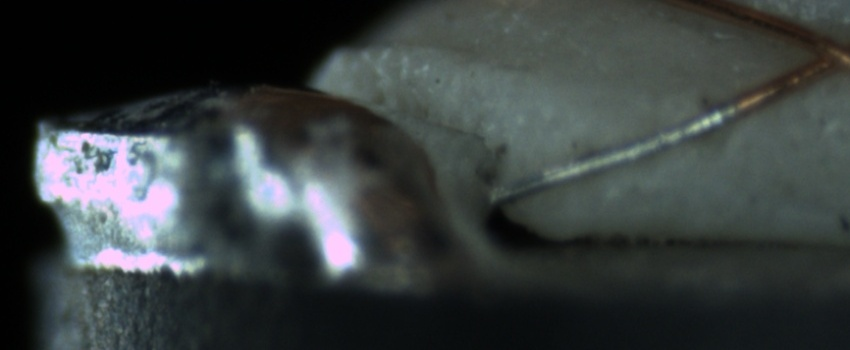CL: (792, 22, 849, 80)
TS: (489, 105, 736, 202)
